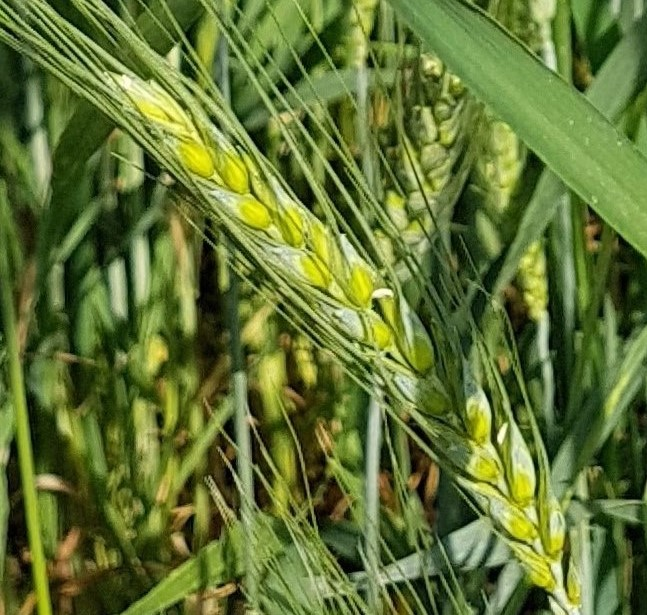Healthy Wheat: (102, 62, 584, 566)
